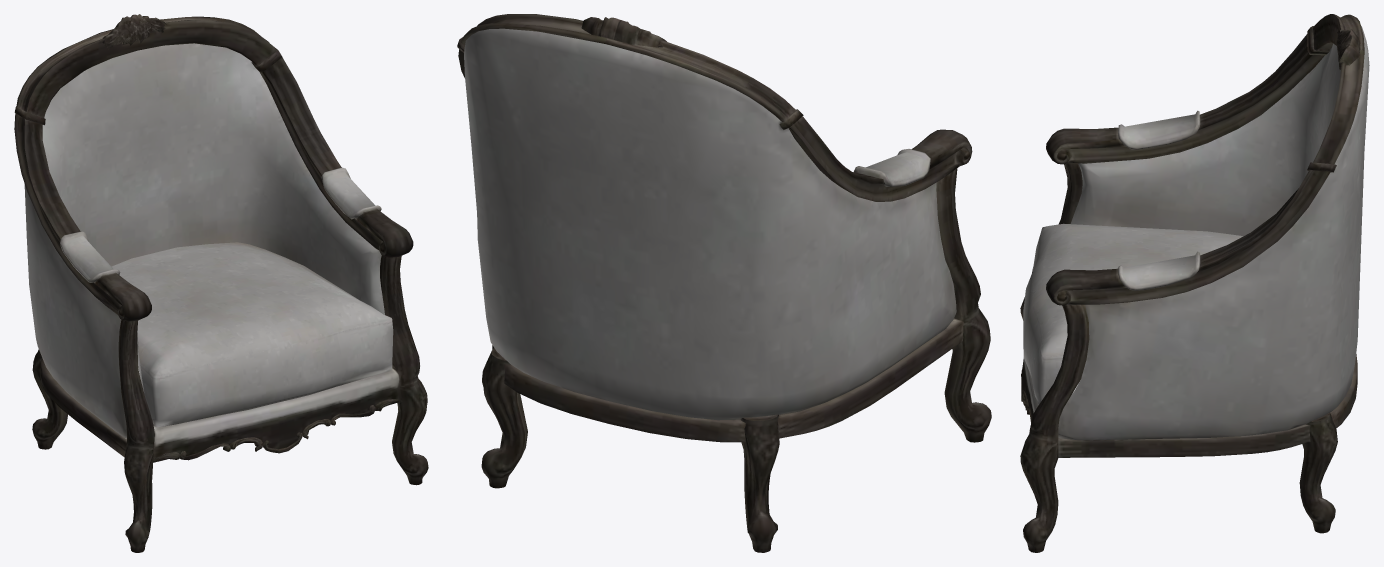
The model's file is armchair.glb.
The picture shows the model from 3 angles, left to right: view 1: azimuth 30°, elevation 25°; view 2: azimuth 150°, elevation 25°; view 3: azimuth 270°, elevation 25°; orthographic projection. The views are drawn at different scales.
Parts seen in each view (by area): view 1: ArmChair_01; view 2: ArmChair_01; view 3: ArmChair_01.
Part boxes in pixels (x1,y1,x2,y2): ArmChair_01: (14, 14, 428, 552); ArmChair_01: (457, 14, 991, 552); ArmChair_01: (1020, 14, 1369, 552).
Size of the model in its own units: 0.8483 by 1.06 by 0.7658.
1 material, 1 textured.
